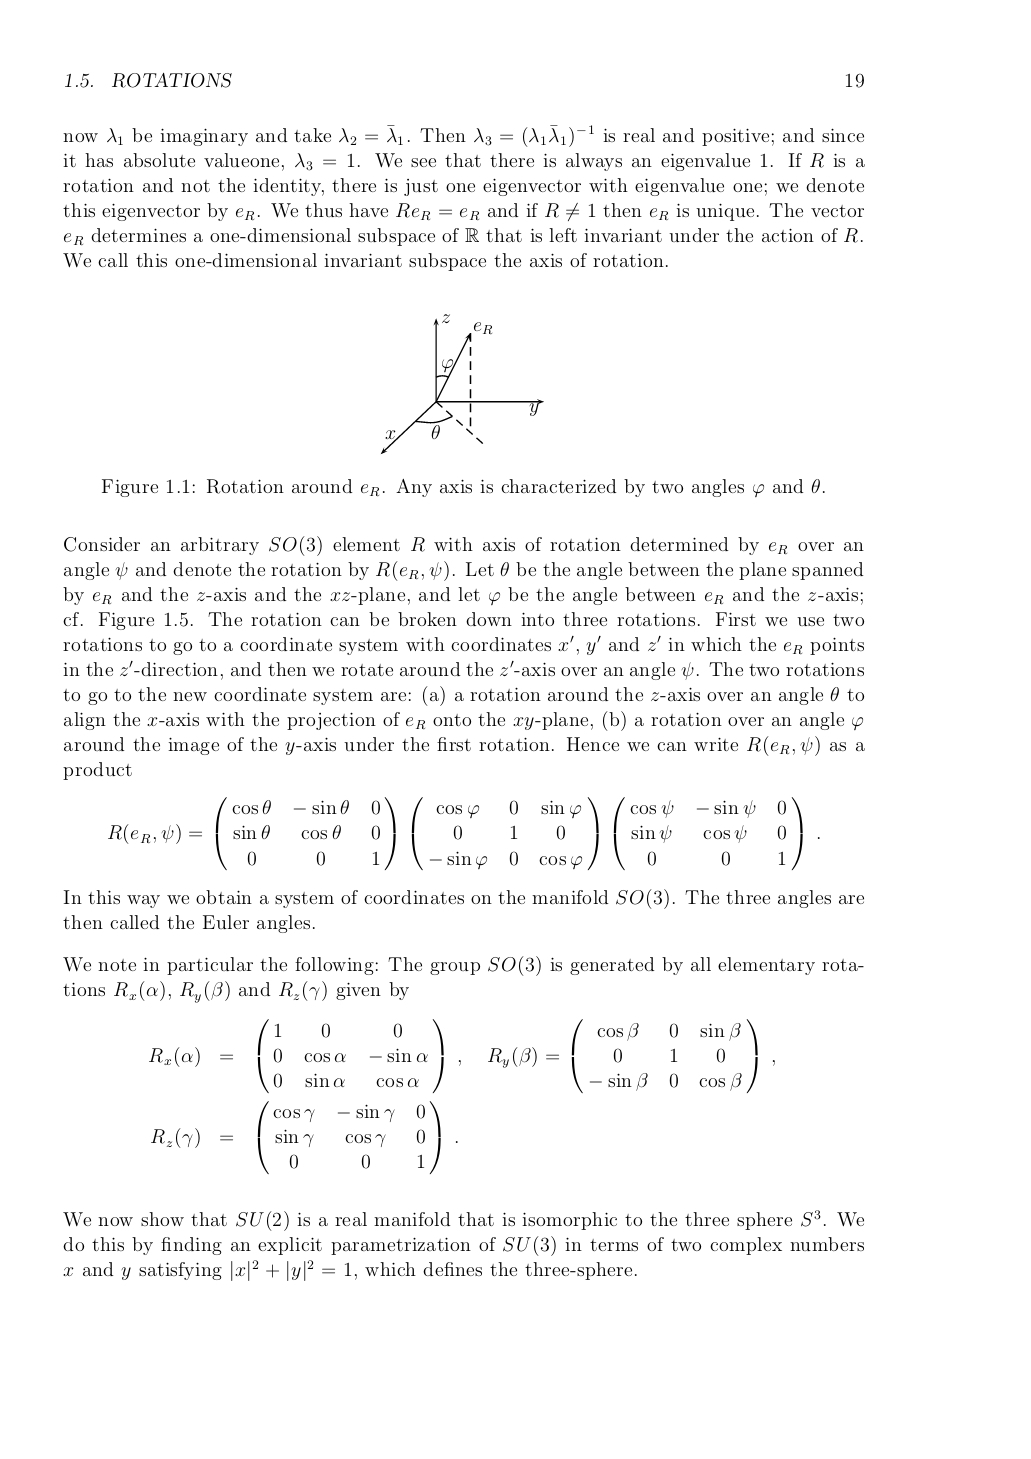figure: (380, 312, 543, 454)
formula: (108, 796, 819, 871), (150, 1018, 774, 1094), (151, 1100, 457, 1175)
